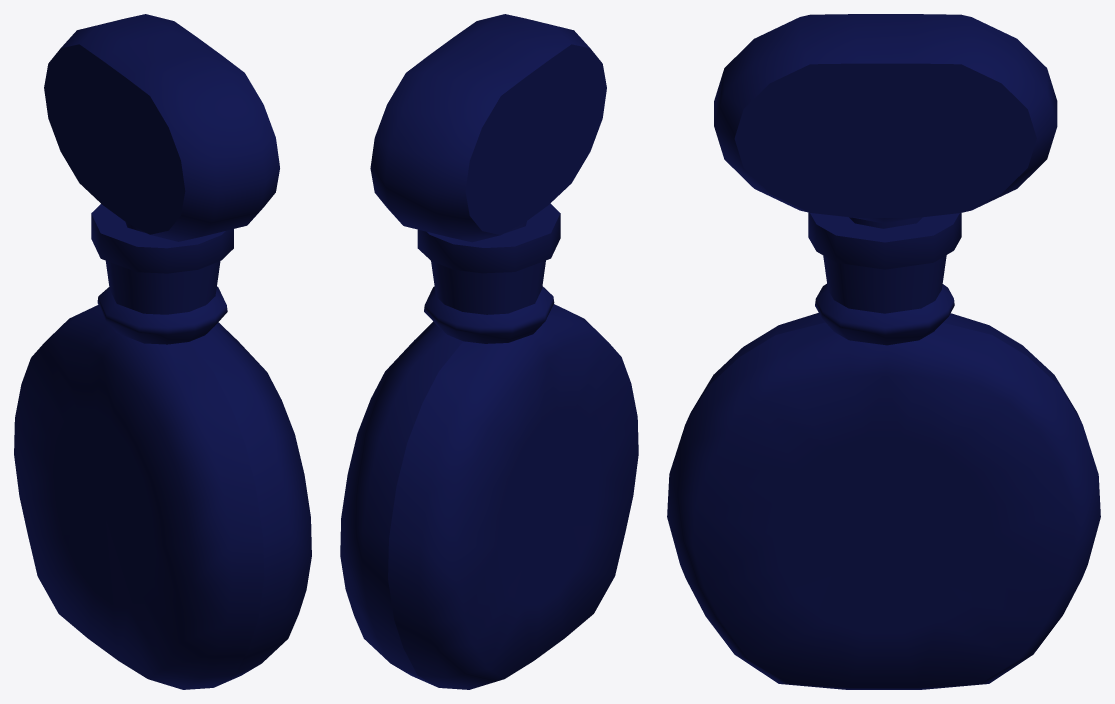
The model's file is SM_Tonic_Bottle.FBX.
The picture shows the model from 3 angles, left to right: view 1: azimuth 30°, elevation 25°; view 2: azimuth 150°, elevation 25°; view 3: azimuth 270°, elevation 25°; orthographic projection. The views are drawn at different scales.
Visible parts, largest first — view 1: EveBottleLow; view 2: EveBottleLow; view 3: EveBottleLow.
Part boxes in pixels (box(x1,y1,x2,y2)): EveBottleLow: box(14, 14, 311, 689); EveBottleLow: box(340, 14, 638, 689); EveBottleLow: box(667, 14, 1100, 689).
Size of the model in its own units: 9.12 by 42.72 by 25.77.
